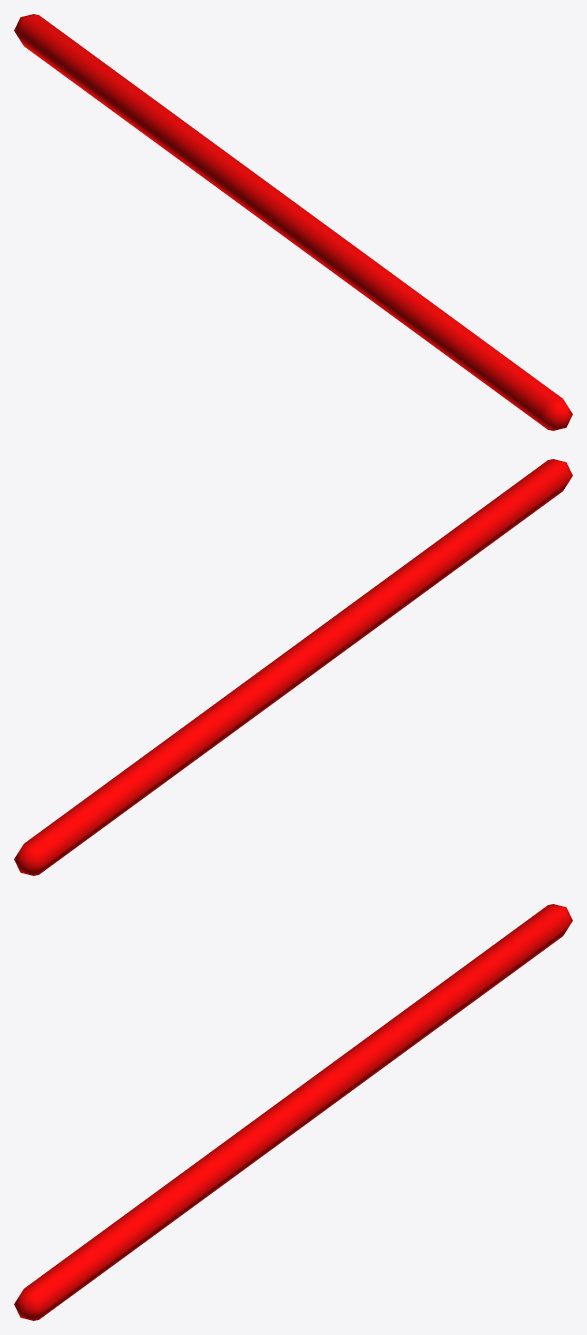
File: Laser.fbx
The picture shows the model from 3 angles, top to bottom: view 1: azimuth 30°, elevation 25°; view 2: azimuth 150°, elevation 25°; view 3: azimuth 330°, elevation 25°; orthographic projection.
Visible parts, largest first — view 1: Capsule01; view 2: Capsule01; view 3: Capsule01.
Part boxes in pixels (box(x1,y1,x2,y2)): Capsule01: box(14, 14, 572, 430); Capsule01: box(14, 459, 572, 875); Capsule01: box(14, 904, 572, 1320).
Size of the model in its own units: 1 by 0.866 by 31.
